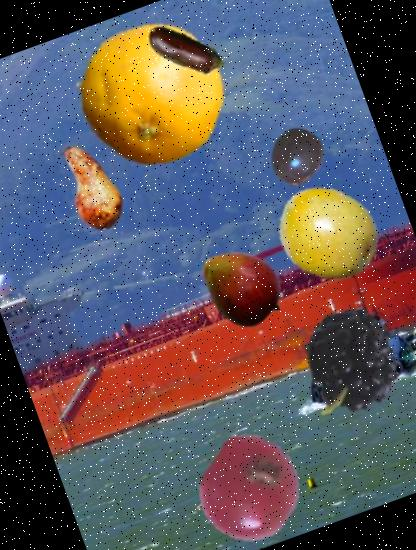Eggplant: (132, 0, 241, 105)
Grapefruit: (56, 0, 246, 187)
Mango: (186, 230, 296, 340)
Maracuja: (262, 166, 395, 300)
Mulberry: (285, 287, 416, 438)
Passion: (258, 119, 334, 195)
Pear: (32, 128, 148, 245)
Redcurrant: (184, 423, 317, 550)
